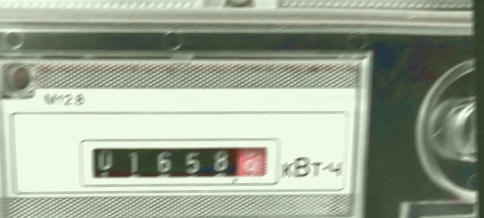0: (97, 146, 110, 168)
1: (127, 148, 137, 170)
5: (184, 148, 198, 171)
6: (155, 147, 169, 170)
8: (212, 146, 226, 168)
9: (240, 154, 254, 176)
screen: (72, 127, 286, 191)
